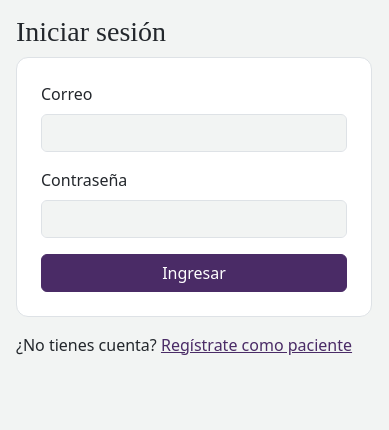
Scenario: Login (G-T3) › con una clave incorrecta muestra la alerta y no navega
Type "recepcion@nutrivida.cl" into the field labelled "Correo".
click(194, 133); type("recepcion@nutrivida.cl")  # box [41,114,347,152]
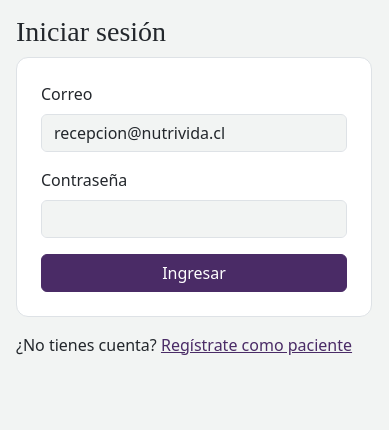
Type "ClaveMala1" into the password field labelled "Contraseña".
click(194, 219); type("ClaveMala1")  # box [41,200,347,238]
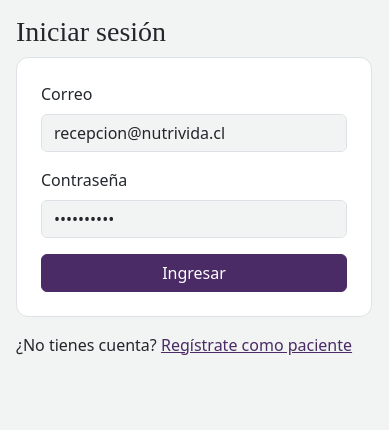
Click the button "Ingresar".
click(194, 273)  # box [41,254,347,292]
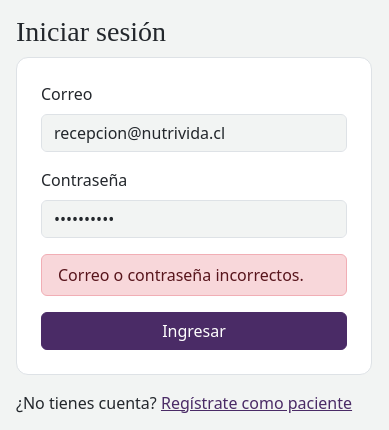
Check: the heading "Iniciar sesión" is shown, box [16,16,166,47]
Check: the message reads "Correo o contraseña incorrectos.", box [58,264,304,286]
